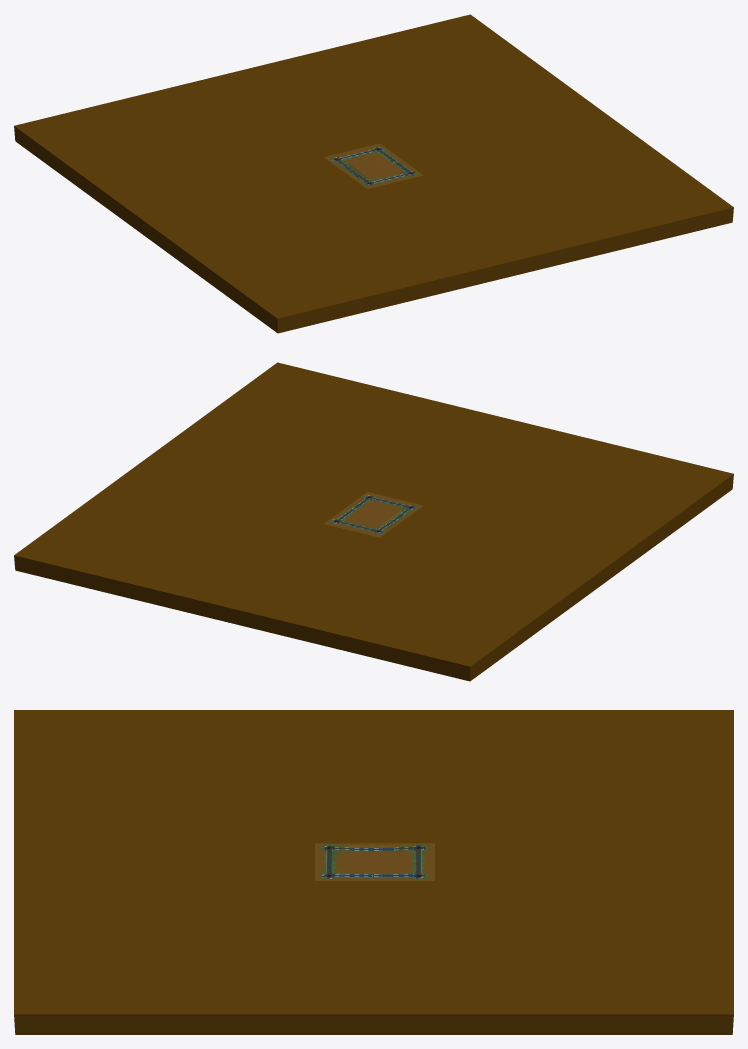
Rendered from cource_B.fbx.
3 renders of one model, top to bottom at view 1: azimuth 30°, elevation 25°; view 2: azimuth 150°, elevation 25°; view 3: azimuth 270°, elevation 25°, orthographic. The views are drawn at different scales.
Visible parts, largest first — view 1: 立方体, earth; view 2: 立方体, earth; view 3: 立方体, earth.
Boxes of the visible parts, x1,y1,x2,y2 form: 立方体: [14, 14, 733, 333]; earth: [324, 143, 423, 189]; 立方体: [14, 362, 733, 681]; earth: [324, 492, 423, 537]; 立方体: [14, 710, 733, 1034]; earth: [315, 843, 434, 880].
Bounding box in the file's own units: 130 × 4.56 × 130.
